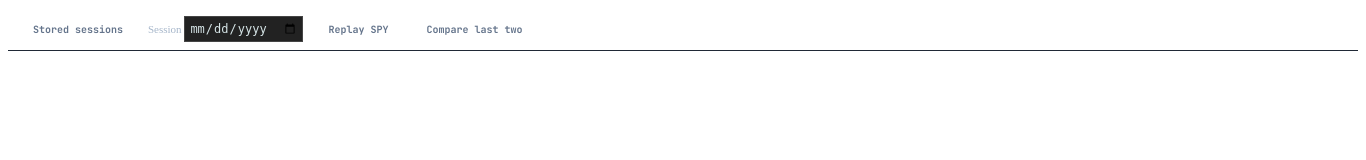
it: a replay response for a different owning record is refused visibly
The image size is (1366, 160).
Click the button with test id "solstice-replay-load": (358, 29) [315,18,401,40]
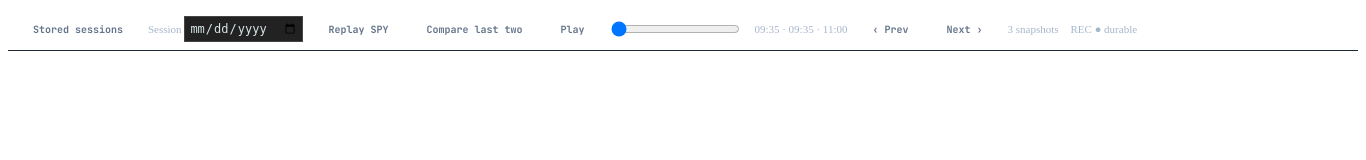
Expected: the text "3 snapshots" is shown, [1008,21,1058,37]
Click the button with test id "solstice-replay-play": (572, 29) [547,18,597,40]
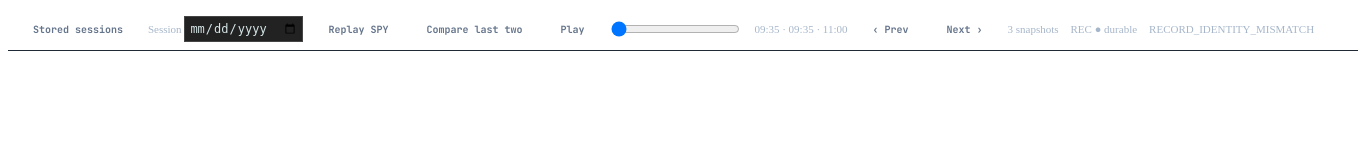
Expected: the button with test id "solstice-replay-play" reads "Play", [547,18,597,40]
Expected: the message reads "RECORD_IDENTITY_MISMATCH", [1149,23,1314,35]
